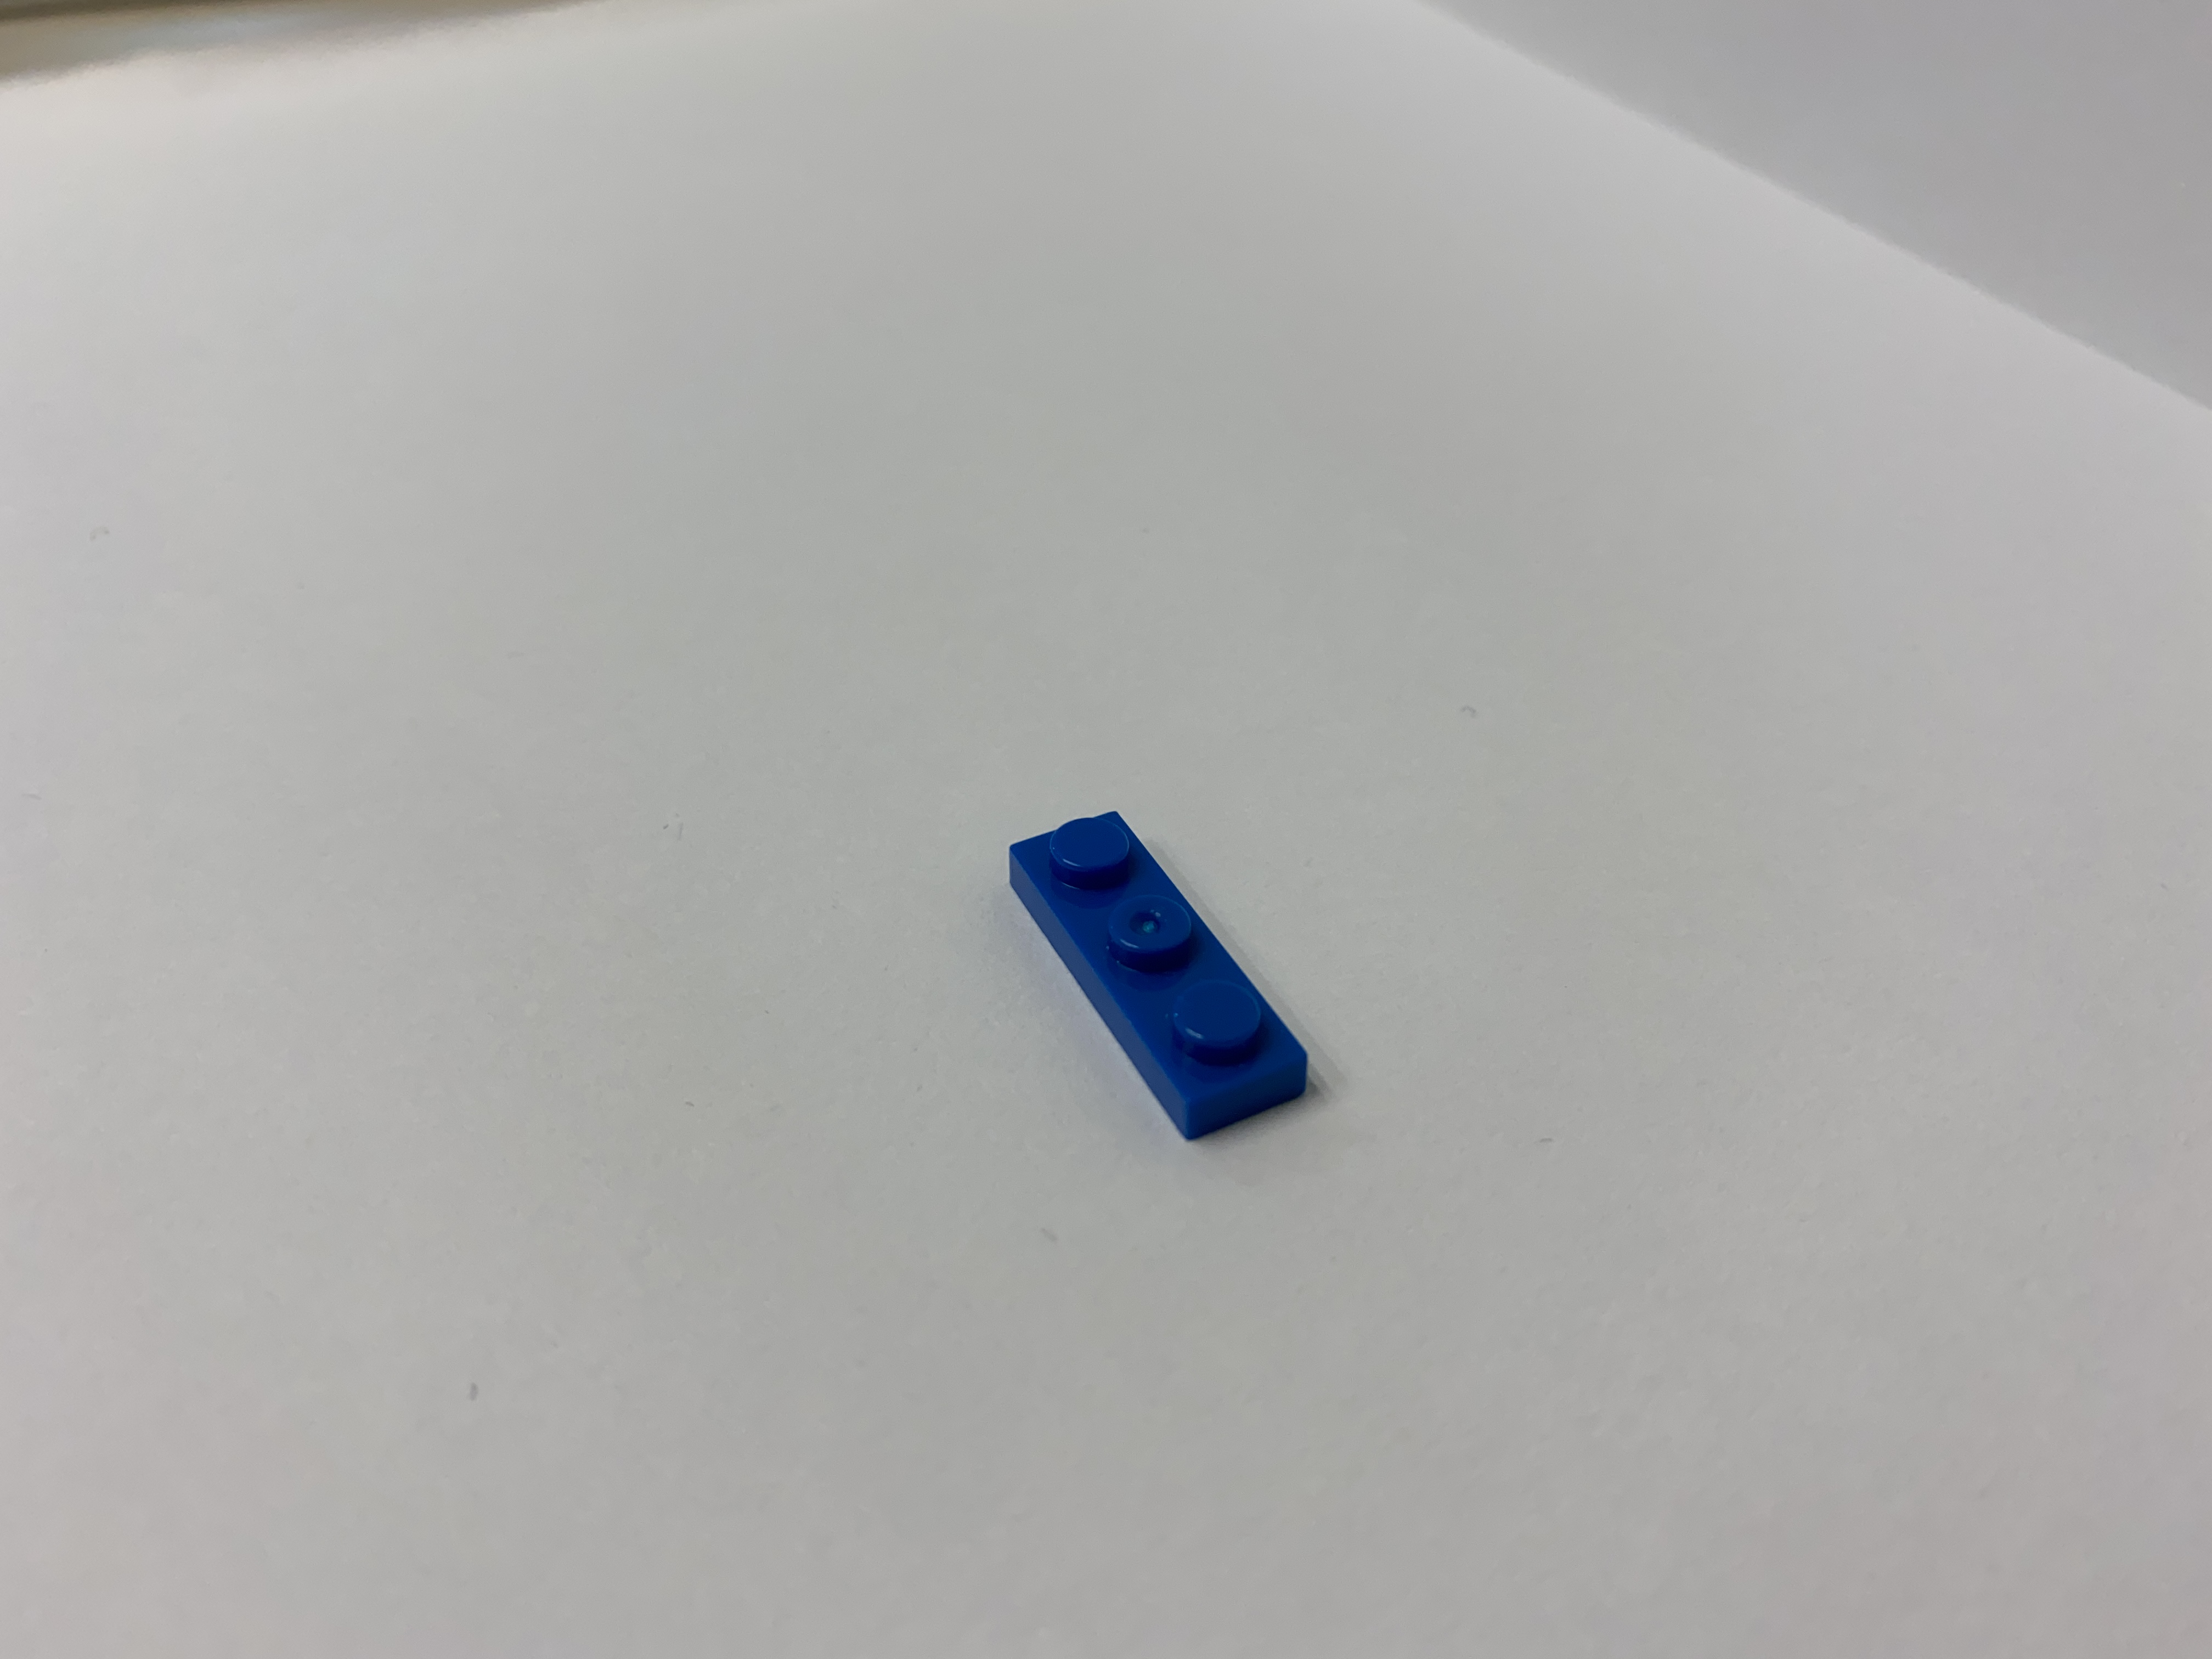car: (928, 763, 1381, 1192)
